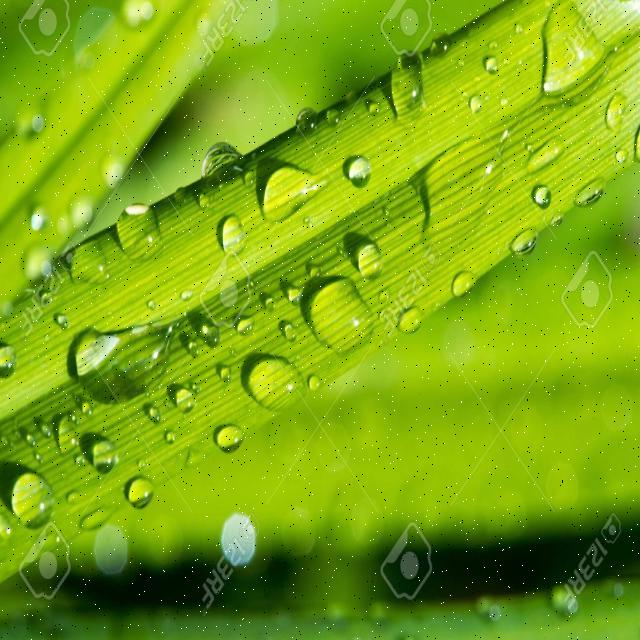raindrop: (55, 306, 179, 420), (298, 259, 396, 372), (248, 152, 335, 258), (107, 178, 186, 274), (233, 335, 313, 424), (1, 449, 65, 542), (200, 414, 252, 468), (216, 205, 248, 279), (122, 468, 156, 518)
